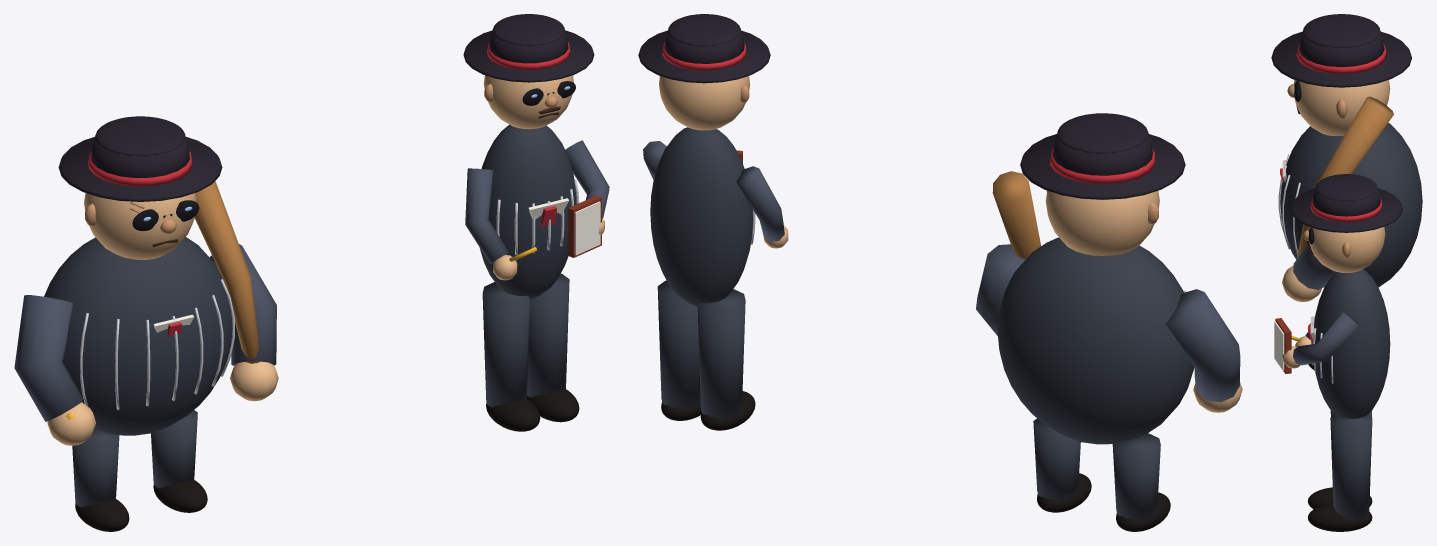
File: gros-bras.glb
The picture shows the model from 3 angles, left to right: view 1: azimuth 30°, elevation 25°; view 2: azimuth 150°, elevation 25°; view 3: azimuth 270°, elevation 25°; orthographic projection. The views are drawn at different scales.
Visible parts, largest first — view 1: corps, corps.001, bras, jambe.002, batte, tete, chapeau_bord, jambe.003, jambe, chapeau.001, chapeau_bord.001, tete.001 (+15 smaller); view 2: corps, corps.001, tete, jambe.002, bras, jambe.003, chapeau_bord, jambe, tete.001, jambe.001, chapeau.001, chapeau_bord.001 (+10 smaller); view 3: corps, corps.001, jambe.003, chapeau_bord, tete, batte, tete.001, chapeau.001, chapeau_bord.001, chapeau, bras.003, chapeau.003 (+10 smaller).
Boxes of the visible parts, x1,y1,x2,y2 form: corps: [44, 237, 232, 435]; corps.001: [480, 124, 576, 299]; bras: [14, 295, 83, 421]; jambe.002: [482, 282, 529, 407]; batte: [194, 181, 259, 363]; tete: [84, 193, 196, 259]; chapeau_bord: [58, 137, 222, 201]; jambe.003: [527, 273, 569, 397]; jambe: [72, 429, 119, 507]; chapeau.001: [95, 116, 185, 156]; chapeau_bord.001: [463, 30, 594, 82]; tete.001: [483, 75, 573, 129]; corps: [997, 237, 1194, 444]; corps.001: [650, 127, 752, 306]; tete: [1045, 190, 1159, 255]; jambe.002: [697, 289, 745, 418]; bras: [1166, 289, 1240, 402]; jambe.003: [657, 280, 700, 409]; chapeau_bord: [1020, 134, 1185, 199]; jambe: [1112, 433, 1160, 520]; tete.001: [659, 76, 749, 130]; jambe.001: [1033, 418, 1080, 500]; chapeau.001: [1057, 113, 1148, 153]; chapeau_bord.001: [638, 30, 770, 83]; corps: [1280, 122, 1422, 287]; corps.001: [1314, 269, 1390, 418]; jambe.003: [1330, 413, 1372, 520]; chapeau_bord: [1271, 31, 1411, 87]; tete: [1293, 80, 1390, 135]; batte: [1297, 96, 1393, 258]; tete.001: [1308, 227, 1385, 272]; chapeau.001: [1303, 14, 1380, 47]; chapeau_bord.001: [1290, 188, 1402, 232]; chapeau: [1299, 32, 1384, 67]; bras.003: [1293, 312, 1359, 365]; chapeau.003: [1315, 174, 1377, 201].
Size of the model in its own units: 3.59 by 2.31 by 0.935.
